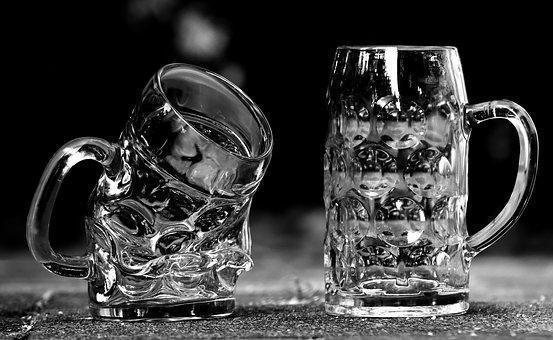glass-mug: (23, 60, 276, 324), (319, 40, 542, 321)
